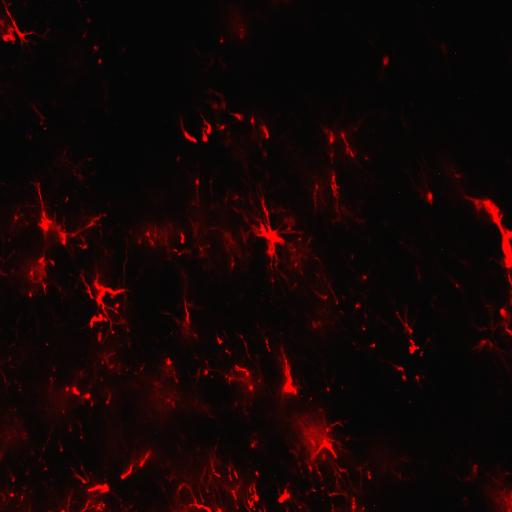microglia: (56, 0, 134, 114), (234, 186, 307, 291), (461, 188, 512, 286), (78, 269, 132, 346), (0, 0, 51, 59), (293, 408, 337, 474), (51, 142, 102, 197), (166, 271, 200, 345), (128, 222, 190, 262), (56, 209, 111, 254), (264, 330, 300, 398), (186, 172, 214, 258), (403, 143, 440, 206), (40, 368, 98, 407), (215, 362, 266, 406), (310, 264, 340, 336), (363, 444, 412, 487), (26, 182, 56, 249), (210, 92, 246, 146), (324, 116, 365, 162), (466, 297, 512, 337), (22, 253, 58, 303), (1, 404, 29, 464), (141, 387, 180, 427), (192, 34, 229, 76), (366, 40, 398, 88), (480, 466, 512, 512), (470, 337, 512, 372), (217, 1, 252, 41), (66, 466, 109, 497), (169, 484, 215, 512), (201, 436, 223, 494), (274, 482, 316, 512), (0, 470, 28, 512), (323, 486, 367, 512), (221, 458, 242, 512), (60, 493, 113, 512), (249, 115, 272, 158), (94, 350, 133, 375), (328, 168, 344, 228), (154, 356, 179, 393), (245, 468, 266, 512), (26, 99, 53, 133), (237, 326, 257, 364), (176, 112, 198, 146), (116, 454, 138, 488), (309, 172, 328, 208), (397, 309, 421, 337), (192, 360, 212, 387), (216, 329, 234, 359), (412, 366, 430, 394), (349, 338, 376, 355), (136, 448, 153, 472), (199, 112, 212, 143), (405, 339, 424, 357), (357, 267, 368, 284), (384, 361, 404, 370), (352, 299, 362, 310), (398, 372, 410, 381), (360, 326, 369, 335)
